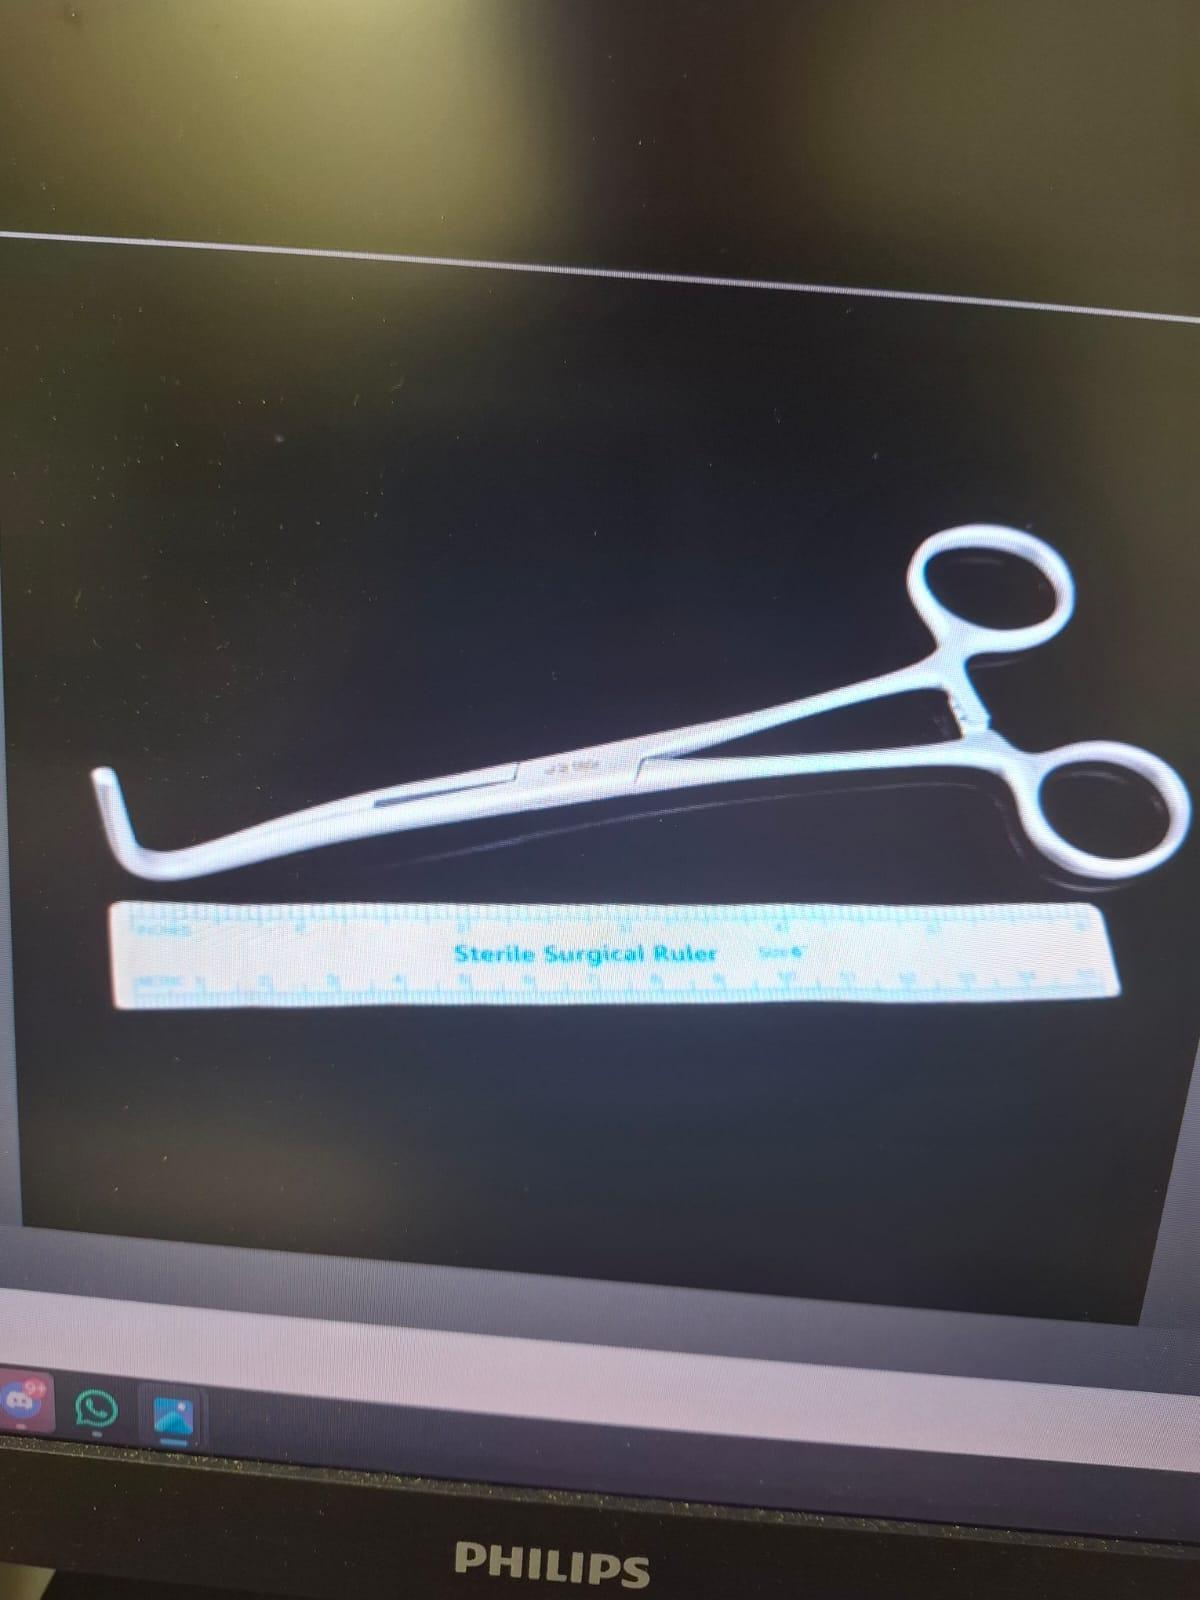Rectangle Cholecystectomy Forceps: (82, 515, 1200, 927)
